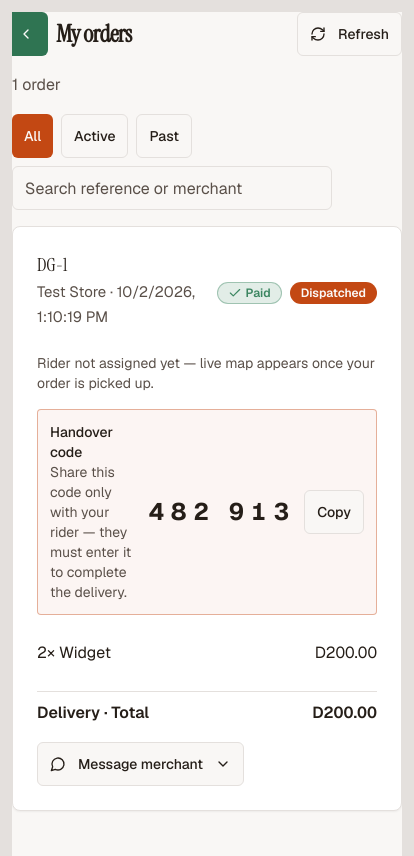
Test: MyOrders handover code display (handover-code/03) › copy button uses the clipboard and confirms
Click the button with aria-label "copy handover code" at {"x": 334, "y": 512}, box [304, 490, 364, 534]
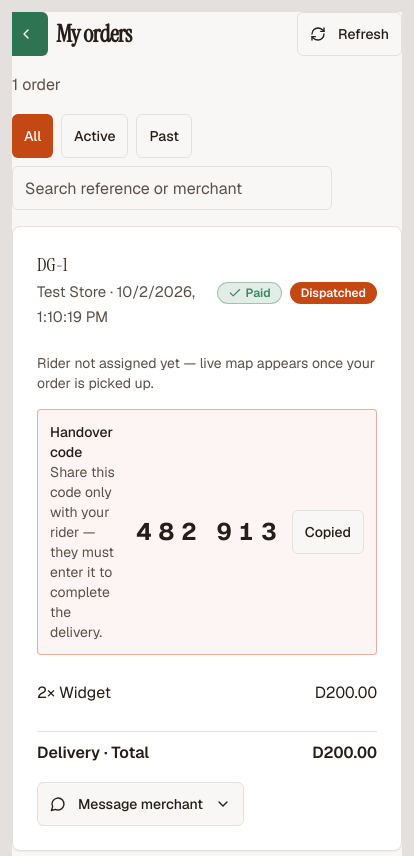
Now the button "Copied" is shown, box [292, 510, 364, 554]
